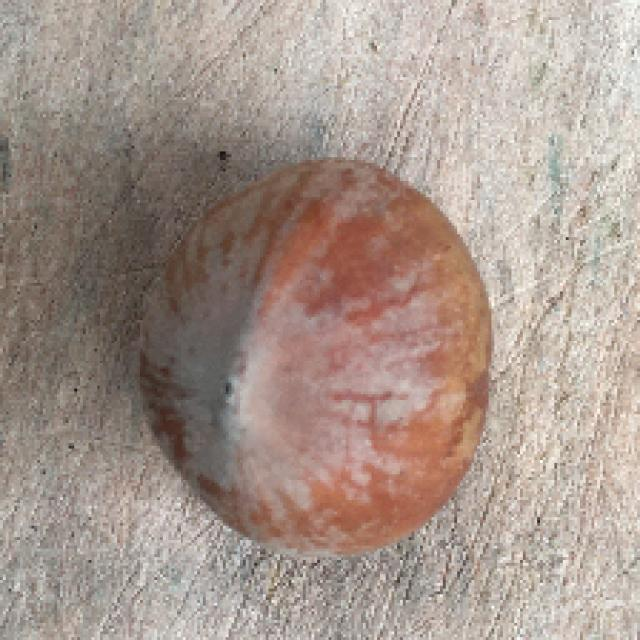qualityHazelnut: (130, 150, 502, 562)
